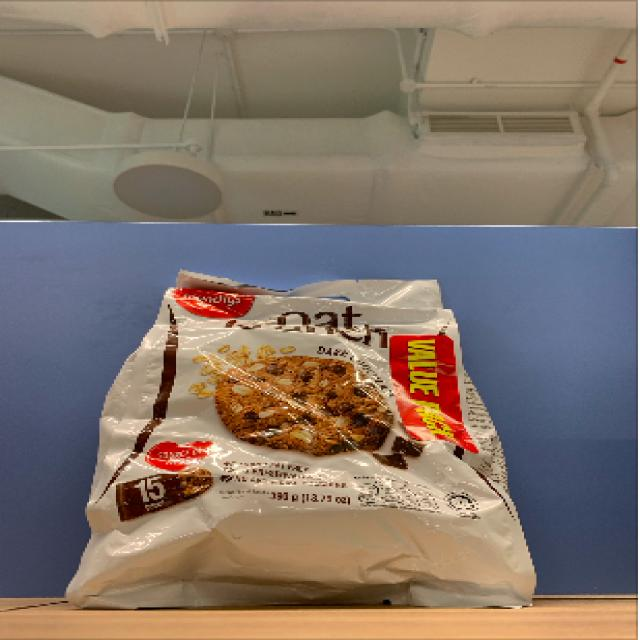object_name: (112, 279, 509, 602)
